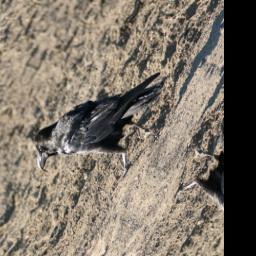Crow: (20, 40, 186, 203)
